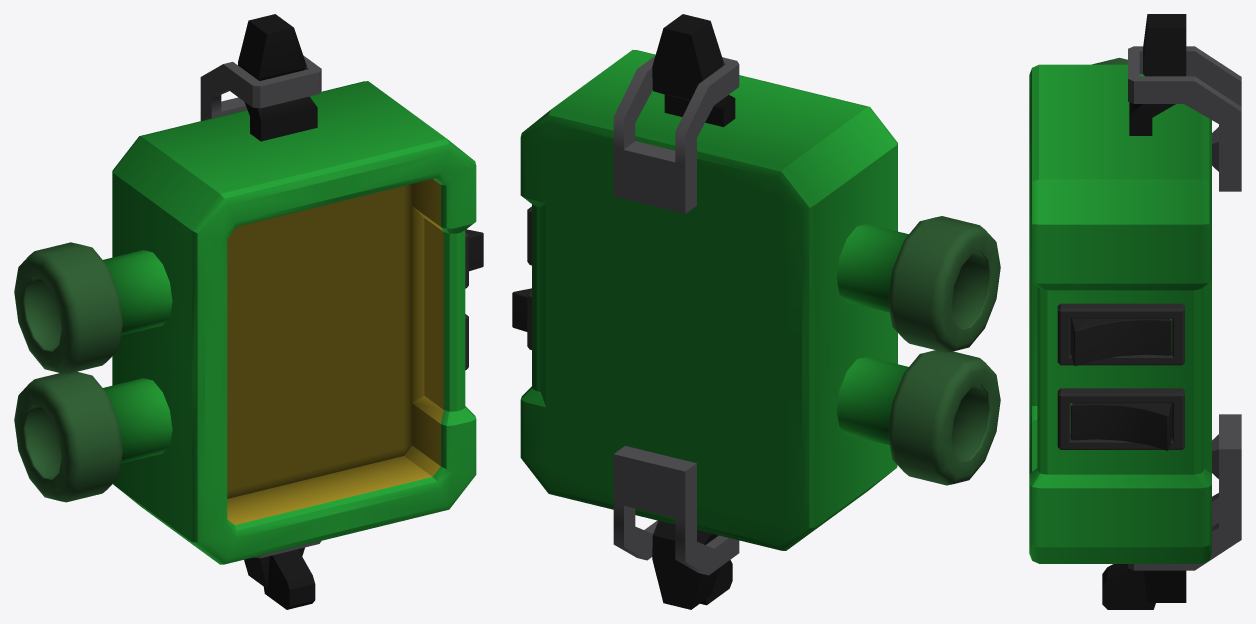
File: Procesor_Cooling_lvl_10_V05.fbx
The picture shows the model from 3 angles, left to right: view 1: azimuth 30°, elevation 25°; view 2: azimuth 150°, elevation 25°; view 3: azimuth 270°, elevation 25°; orthographic projection. The views are drawn at different scales.
Parts seen in each view (by area): view 1: Procesor_Cooling_lvl_10; view 2: Procesor_Cooling_lvl_10; view 3: Procesor_Cooling_lvl_10.
Boxes of the visible parts, box(x1,y1,x2,y2) form: Procesor_Cooling_lvl_10: box(14, 14, 483, 609); Procesor_Cooling_lvl_10: box(512, 14, 1000, 609); Procesor_Cooling_lvl_10: box(1029, 14, 1241, 609).
Bounding box in the file's own units: 36.59 × 46.77 × 15.47.
